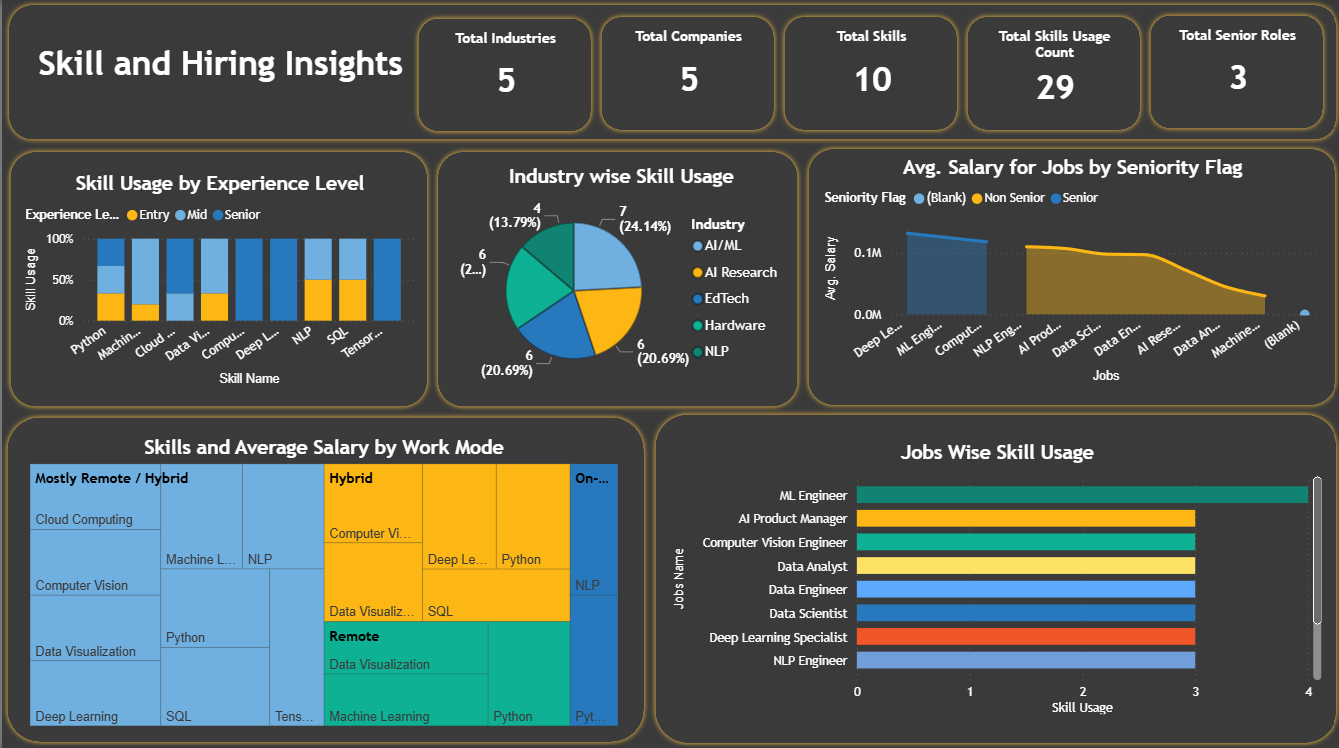

Layout of this report page (visuals, bound fields, positions):
{"tool":"powerbi","page":{"name":"Skill and Hiring Insights","canvas":[1280,720],"ordinal":3},"visuals":[{"type":"group","id":"g1","title":"Group 7","box":[0.9,1.4,1279.1,138.9],"z":0},{"type":"shape","box":[0.9,1.4,1279.1,138.9],"z":0,"group":"g1"},{"type":"textbox","box":[20,23.3,370.4,83.2],"z":1000,"group":"g1"},{"type":"group","id":"g2","title":"Group 3","box":[2.9,141.8,408.2,253.5],"z":1000},{"type":"group","id":"g3","title":"Group 3","box":[0,395.3,618.8,322.3],"z":2000},{"type":"group","id":"g4","title":"Group 9","box":[764.9,138.9,514.2,255],"z":3000},{"type":"group","id":"g5","title":"Group 4","box":[1090.9,11.4,174.8,118.9],"z":4000,"group":"g1"},{"type":"group","id":"g6","title":"Group 3","box":[618.8,392.5,661.5,324.2],"z":4000},{"type":"group","id":"g7","title":"Group 4","box":[916.2,12.9,174.8,118.9],"z":5000,"group":"g1"},{"type":"shape","box":[2.9,141.8,408.2,253.5],"z":5000,"group":"g2"},{"type":"group","id":"g8","title":"Group 9","box":[411.1,141.8,353.8,253.5],"z":5000},{"type":"shape","box":[618.8,392.5,661.5,324.2],"z":5000,"group":"g6"},{"type":"shape","box":[0,395.3,618.1,320.1],"z":5000,"group":"g3"},{"type":"group","id":"g9","title":"Group 4","box":[741.4,12.9,174.8,118.9],"z":6000,"group":"g1"},{"type":"shape","box":[1090.9,11.4,175,118.3],"z":7000,"group":"g5"},{"type":"group","id":"g10","title":"Group 4","box":[566.7,12.9,174.8,118.9],"z":7000,"group":"g1"},{"type":"shape","box":[566.7,12.9,175,118.3],"z":7000,"group":"g10"},{"type":"shape","box":[741.4,12.9,175,118.3],"z":7000,"group":"g9"},{"type":"shape","box":[916.2,12.9,175,118.3],"z":7000,"group":"g7"},{"type":"shape","box":[391.3,13.7,175,118.3],"z":7000,"group":"g11"},{"type":"hundredPercentStackedColumnChart","title":"Skill Usage by Experience Level","fields":{"Category":["Dim_Skills.Skill_Name"],"Y":["Dim_Skills.SkillUsageCount"],"Series":["Fact_Jobs.Experience_Level"]},"box":[16.8,166.1,382,209],"z":7000,"group":"g2"},{"type":"treemap","title":"Skills and Average Salary by Work Mode","fields":{"Group":["Fact_Jobs.WorkMode"],"Details":["Dim_Skills.Skill_Name"],"Values":["Avg(Fact_Jobs.Salary_USD)"]},"box":[20.9,418.2,571.6,282],"z":7000,"group":"g3"},{"type":"barChart","title":"Jobs Wise Skill Usage","fields":{"Category":["Fact_Jobs.Job_Title"],"Y":["Fact_Job_Skills.AverageSkillPerJob"],"Series":["Fact_Jobs.Job_Display"]},"box":[636.3,421.9,628.8,266.4],"z":7000,"group":"g6"},{"type":"group","id":"g11","title":"Group 4","box":[391.3,13.7,174.8,118.9],"z":8000,"group":"g1"},{"type":"shape","box":[764.9,138.9,514.2,255],"z":9000,"group":"g4"},{"type":"shape","box":[411.1,141.8,353.8,253.5],"z":9000,"group":"g8"},{"type":"card","title":"Total Senior Roles","fields":{"Values":["Fact_Jobs.TotalJobs"]},"box":[1106.9,27.1,145.4,79.8],"z":10000,"group":"g5"},{"type":"card","title":"Total Companies","fields":{"Values":["Dim_Companies.Total Companies"]},"box":[582.7,28.6,145.4,79.8],"z":10000,"group":"g10"},{"type":"card","title":"Total Skills","fields":{"Values":["Dim_Skills.Total Skills"]},"box":[757.4,28.6,145.4,79.8],"z":10000,"group":"g9"},{"type":"card","title":"Total Skills Usage Count","fields":{"Values":["Dim_Skills.SkillUsageCount"]},"box":[932.2,28.6,145.4,79.8],"z":10000,"group":"g7"},{"type":"card","title":"Total Industries","fields":{"Values":["Dim_Companies.Total Industries"]},"box":[407.3,29.4,145.4,79.8],"z":10000,"group":"g11"},{"type":"lineChart","title":"Avg. Salary for Jobs by Seniority Flag","fields":{"Category":["Fact_Jobs.Job_Title"],"Y":["Fact_Jobs.AvgSalaryByExperience"],"Series":["Fact_Jobs.SeniorityFlag"]},"box":[781,149.7,483.2,221.7],"z":10000,"group":"g4"},{"type":"pieChart","title":"Industry wise Skill Usage","fields":{"Category":["Dim_Companies.Industry"],"Y":["Dim_Skills.SkillUsageCount"]},"box":[427.7,159.3,325.9,219.2],"z":10000,"group":"g8"}]}

Visuals, with their boxes in screenshot pixels (x1, y1, x2, y2), scaled from the page's 1280x720 canvas onto the 1339x748 screenshot:
"Group 7" group: l=1, t=1, r=1338, b=146
shape: l=1, t=1, r=1338, b=146
textbox: l=21, t=24, r=408, b=111
"Group 3" group: l=3, t=147, r=430, b=411
"Group 3" group: l=0, t=411, r=647, b=746
"Group 9" group: l=800, t=144, r=1338, b=409
"Group 4" group: l=1141, t=12, r=1324, b=135
"Group 3" group: l=647, t=408, r=1338, b=745
"Group 4" group: l=958, t=13, r=1141, b=137
shape: l=3, t=147, r=430, b=411
"Group 9" group: l=430, t=147, r=800, b=411
shape: l=647, t=408, r=1338, b=745
shape: l=0, t=411, r=647, b=743
"Group 4" group: l=776, t=13, r=958, b=137
shape: l=1141, t=12, r=1324, b=135
"Group 4" group: l=593, t=13, r=776, b=137
shape: l=593, t=13, r=776, b=136
shape: l=776, t=13, r=959, b=136
shape: l=958, t=13, r=1141, b=136
shape: l=409, t=14, r=592, b=137
"Skill Usage by Experience Level" hundredPercentStackedColumnChart: l=18, t=173, r=417, b=390
"Skills and Average Salary by Work Mode" treemap: l=22, t=434, r=620, b=727
"Jobs Wise Skill Usage" barChart: l=666, t=438, r=1323, b=715
"Group 4" group: l=409, t=14, r=592, b=138
shape: l=800, t=144, r=1338, b=409
shape: l=430, t=147, r=800, b=411
"Total Senior Roles" card: l=1158, t=28, r=1310, b=111
"Total Companies" card: l=610, t=30, r=762, b=113
"Total Skills" card: l=792, t=30, r=944, b=113
"Total Skills Usage Count" card: l=975, t=30, r=1127, b=113
"Total Industries" card: l=426, t=31, r=578, b=113
"Avg. Salary for Jobs by Seniority Flag" lineChart: l=817, t=156, r=1322, b=386
"Industry wise Skill Usage" pieChart: l=447, t=165, r=788, b=393
